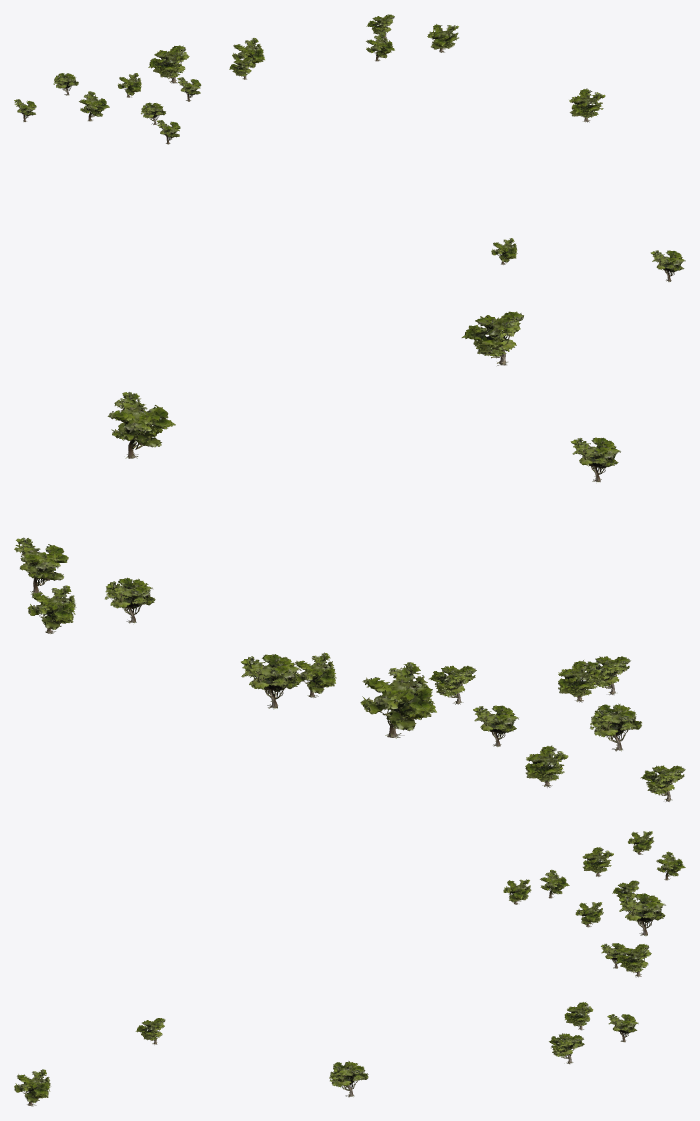
Rendered from Arbol02.glb.
The picture shows the model from 3 angles, top to bottom: view 1: azimuth 30°, elevation 25°; view 2: azimuth 150°, elevation 25°; view 3: azimuth 270°, elevation 25°; orthographic projection. The views are drawn at different scales.
Visible parts, largest first — view 1: temp_mesh.ply.915; view 2: temp_mesh.ply.915; view 3: temp_mesh.ply.915.
Part boxes in pixels (left/top/right/bottom): temp_mesh.ply.915: left=14, top=14, right=685, bottom=281; temp_mesh.ply.915: left=14, top=311, right=685, bottom=801; temp_mesh.ply.915: left=14, top=831, right=685, bottom=1106.
Bounding box in the file's own units: 88.46 × 15.66 × 104.
1 material, 1 textured.
